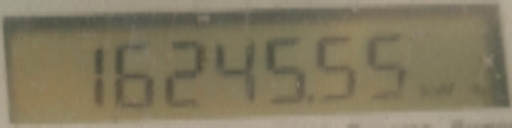1: (70, 40, 105, 114)
2: (165, 33, 205, 109)
4: (218, 29, 258, 105)
5: (265, 29, 305, 105), (319, 30, 359, 106), (368, 26, 408, 102)
6: (112, 35, 152, 111)
d: (306, 91, 319, 105)
